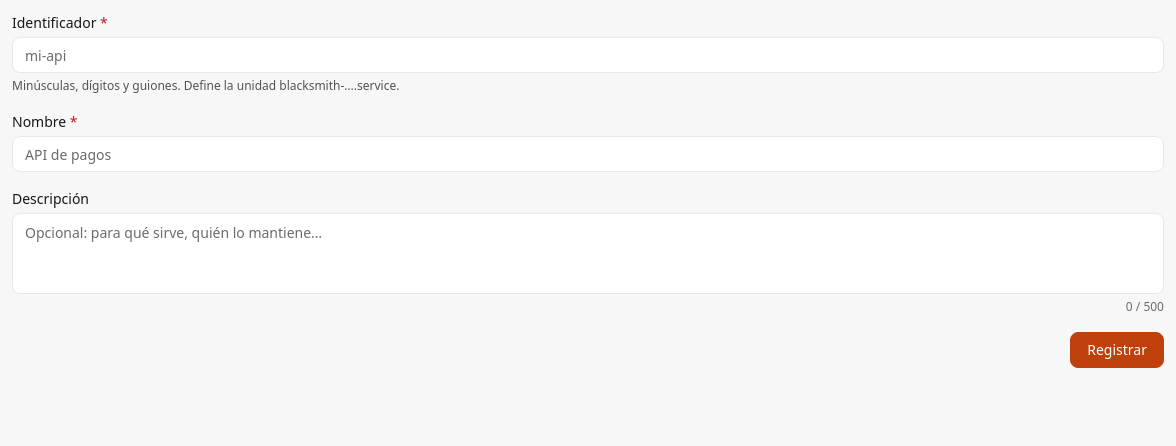
Test: RegisterServiceForm › un identificador repetido se marca en su campo; otros errores, en el formulario
The width and height of the screenshot is (1176, 446).
Type "api" into the field labelled "Identificador *" at (588, 55), box [25,44,1151,66]
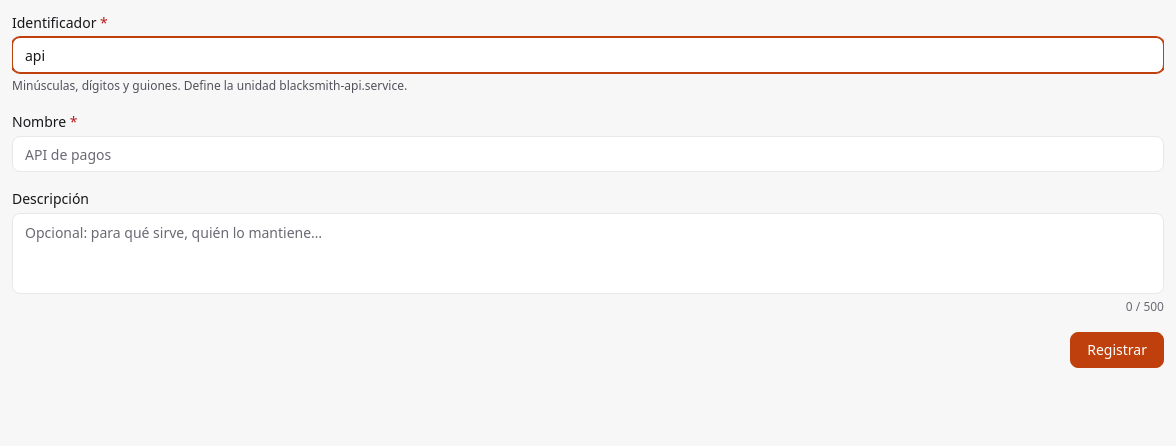
Type "API" into the field labelled "Nombre *" at (588, 154), box [25,144,1151,164]
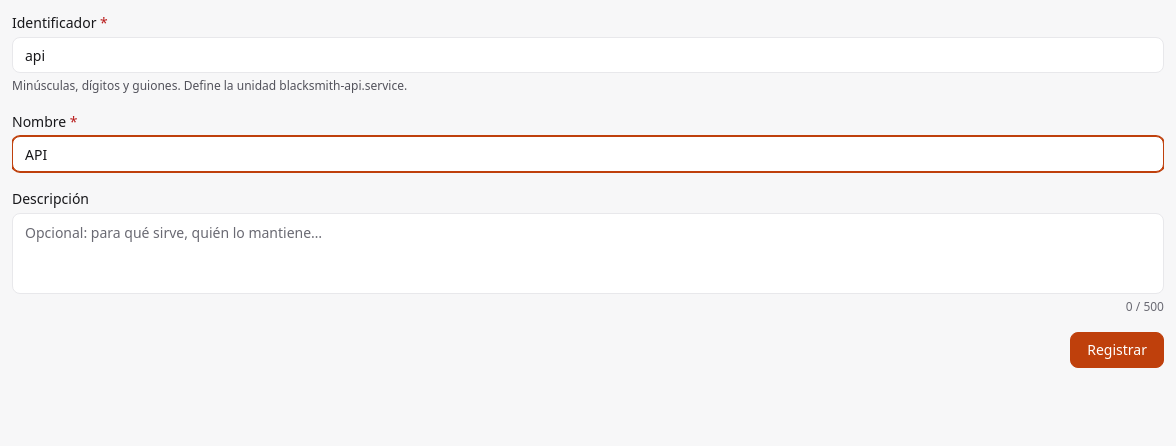
Click the button "Registrar" at (1117, 350), box [1070,332,1164,368]
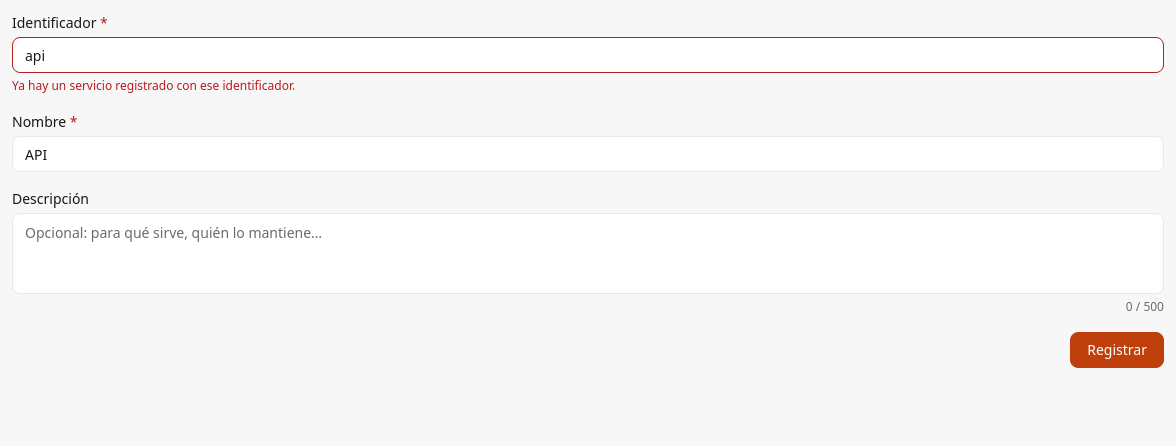
Click the button "Registrar" at (1117, 350), box [1070,332,1164,368]
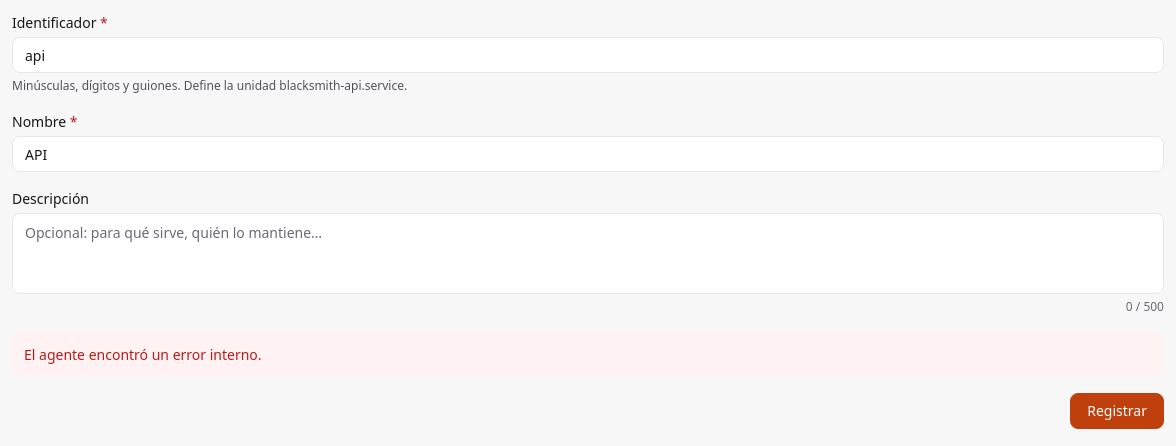
Result: the message reads "El agente encontró un error interno." at [24,345,262,364]
